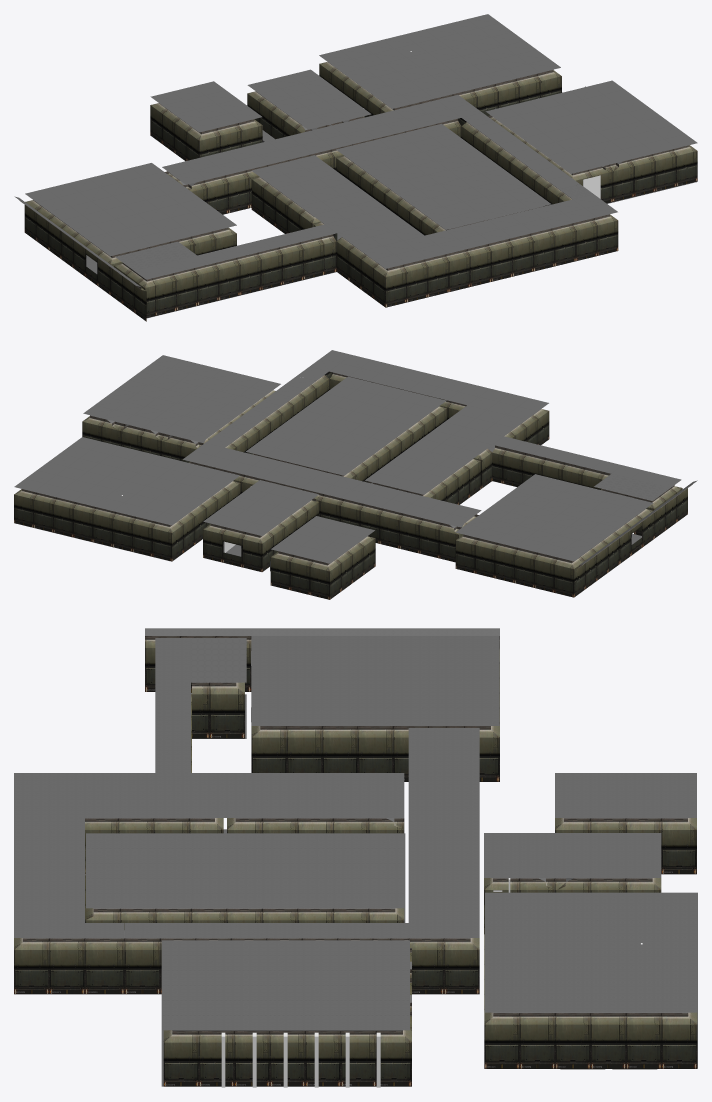
The model's file is Map.fbx.
3 renders of one model, top to bottom at view 1: azimuth 30°, elevation 25°; view 2: azimuth 150°, elevation 25°; view 3: azimuth 270°, elevation 25°, orthographic. The views are drawn at different scales.
Visible parts, largest first — view 1: Corridor_9x4_1, Corridor_6x3_1, Corridor_5x2_1, Corridor_4x3_Corner_1, Corridor_6x2_1, Corridor_5x1_1, Roof_2x2_114, Escape_Pod_Room_Wall_Outer, Small_Room_Wall_2m_Corner_4, Corridor_5x2__Wall_2m_5, Community_Bathroom_Wall_2m_9, Community_Bathroom_Wall_2m_8 (+18 smaller); view 2: Corridor_6x2_1, Corridor_9x4_1, Corridor_6x3_1, Escape_Pod_Room_Wall_Outer, Small_Room_Wall_2m_Corner_3, Power_Station_Room_Wall_2m_Corner_3, Escape_Pod_Room_Wall_2m_Corner_2, Corridor_5x1_1, Room_1_Wall_2m_Corner_3, Roof_2x2_114, Escape_Pod_Room_Wall_2m_4, Escape_Pod_Room_Wall_2m_3 (+31 smaller); view 3: Corridor_4x3_Corner_1, Corridor_3x1_Corner_1, Corridor_9x4_1, Roof_2x2_114, Corridor_6x3_1, Power_Station_Room_Wall_2m_Corner_2, Power_Station_Room_Wall_2m_1, Power_Station_Room_Wall_2m_3, Small_Room_Wall_2m_Corner_2, Community_Bathroom_Wall_2m_Corner_2, Corridor_5x1_1_Wall_2m_2_1, Power_Station_Room_Wall_2m_Corner_1 (+15 smaller).
Part boxes in pixels (x1,y1,x2,y2): Corridor_9x4_1: (114, 234, 336, 318); Corridor_6x3_1: (313, 222, 448, 307); Corridor_5x2_1: (467, 228, 554, 286); Corridor_4x3_Corner_1: (552, 193, 618, 266); Corridor_6x2_1: (165, 155, 309, 214); Corridor_5x1_1: (473, 131, 539, 191); Roof_2x2_114: (115, 241, 196, 270); Escape_Pod_Room_Wall_Outer: (19, 200, 146, 321); Small_Room_Wall_2m_Corner_4: (187, 128, 220, 160); Corridor_5x2__Wall_2m_5: (446, 249, 470, 291); Community_Bathroom_Wall_2m_9: (652, 149, 676, 191); Community_Bathroom_Wall_2m_8: (631, 154, 655, 196); Corridor_6x2_1: (340, 499, 478, 562); Corridor_9x4_1: (492, 445, 682, 510); Corridor_6x3_1: (473, 409, 549, 488); Escape_Pod_Room_Wall_Outer: (574, 484, 692, 597); Small_Room_Wall_2m_Corner_3: (310, 559, 341, 599); Power_Station_Room_Wall_2m_Corner_3: (152, 521, 183, 561); Escape_Pod_Room_Wall_2m_Corner_2: (554, 557, 585, 597); Corridor_5x1_1: (231, 401, 293, 454); Room_1_Wall_2m_Corner_3: (242, 531, 273, 571); Roof_2x2_114: (594, 473, 669, 500); Escape_Pod_Room_Wall_2m_4: (534, 552, 556, 592); Escape_Pod_Room_Wall_2m_3: (514, 548, 537, 587); Corridor_4x3_Corner_1: (14, 938, 124, 994); Corridor_3x1_Corner_1: (373, 938, 479, 994); Corridor_9x4_1: (191, 682, 246, 772); Roof_2x2_114: (191, 638, 246, 682); Corridor_6x3_1: (85, 818, 226, 873); Power_Station_Room_Wall_2m_Corner_2: (661, 1012, 697, 1068); Power_Station_Room_Wall_2m_1: (519, 1013, 555, 1068); Power_Station_Room_Wall_2m_3: (590, 1013, 626, 1068); Small_Room_Wall_2m_Corner_2: (661, 818, 696, 874); Community_Bathroom_Wall_2m_Corner_2: (163, 1030, 198, 1086); Corridor_5x1_1_Wall_2m_2_1: (125, 938, 160, 994); Power_Station_Room_Wall_2m_Corner_1: (484, 1009, 519, 1068).
Bounding box in the file's own units: 5368 × 413 × 3856.
